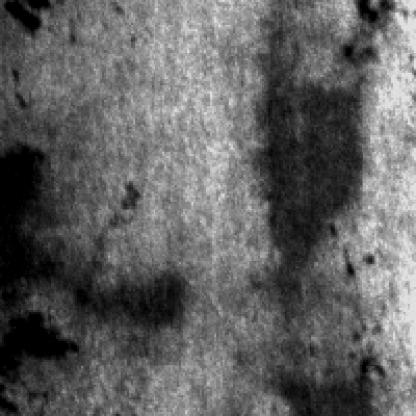inclusion: (2, 310, 85, 380), (10, 0, 62, 42)
patches: (262, 46, 374, 302), (72, 178, 200, 320), (2, 133, 77, 308), (270, 337, 385, 414)
